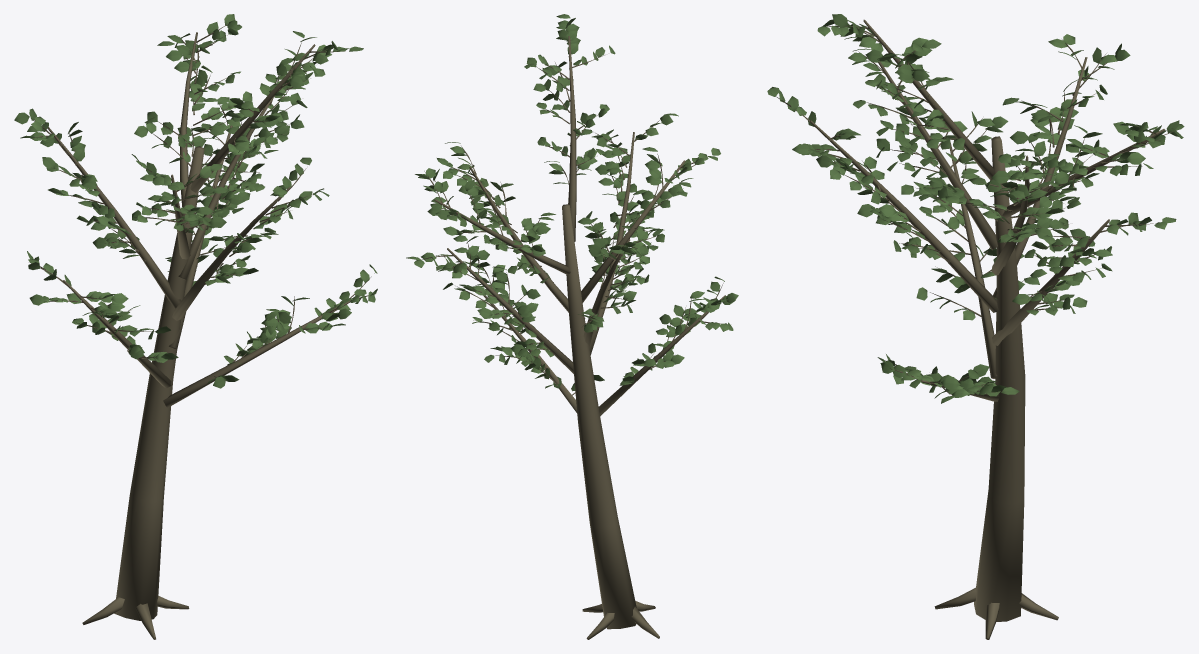
The model's file is CheneVert_1_LOD1.fbx.
3 views of the same model, side by side, from view 1: azimuth 30°, elevation 25°; view 2: azimuth 150°, elevation 25°; view 3: azimuth 270°, elevation 25° (orthographic). The views are drawn at different scales.
Visible parts, largest first — view 1: CheneVert_1_LOD1; view 2: CheneVert_1_LOD1; view 3: CheneVert_1_LOD1.
Boxes of the visible parts, x1=… form: CheneVert_1_LOD1: x1=14, y1=14, x2=377, y2=639; CheneVert_1_LOD1: x1=406, y1=14, x2=738, y2=639; CheneVert_1_LOD1: x1=767, y1=14, x2=1184, y2=639.
Size of the model in its own units: 412 by 693 by 391.
